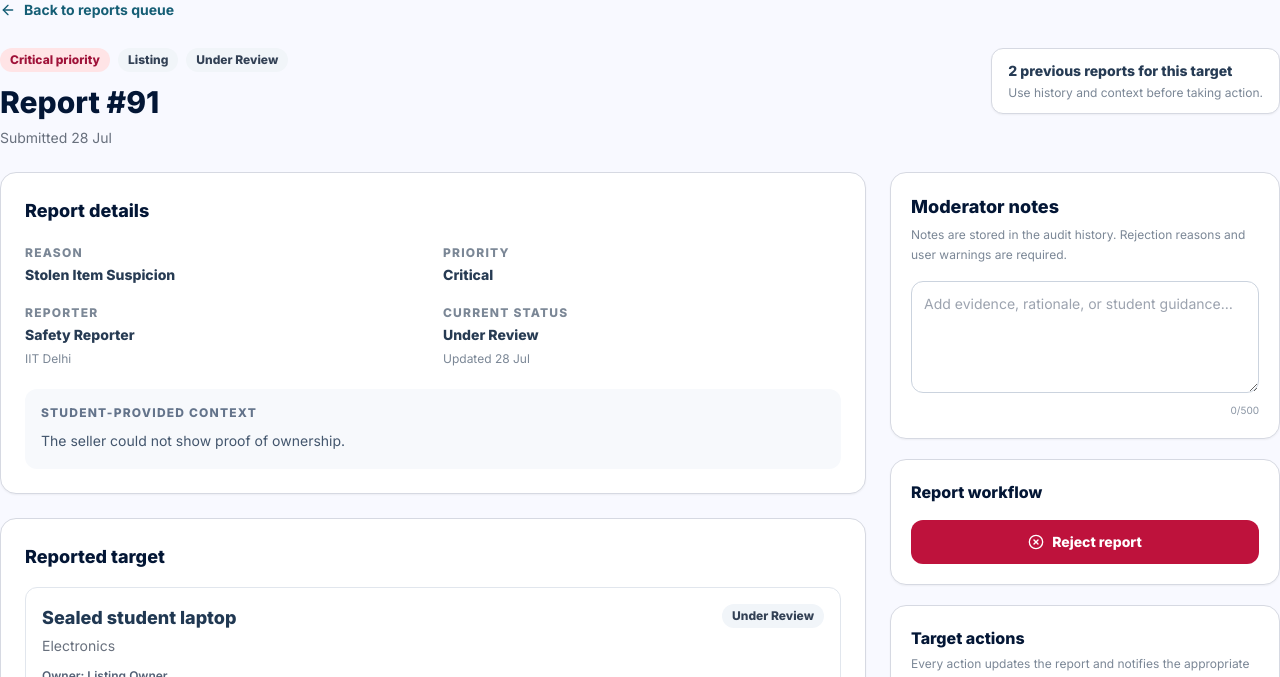
Test: AdminReportDetailsPage › shows report context and sends an audited target action
Check: the heading "Report #91" is shown, box x1=0 y1=84 x2=159 y2=120
Check: the text "Sealed student laptop" is shown, box x1=42 y1=604 x2=236 y2=632
Type "No valid ownership evidence was provided." into the text box with placeholder "Add evidence, rationale, or student guidance…" at {"x": 1085, "y": 337}, box x1=911 y1=281 x2=1259 y2=393
(page scrolled)
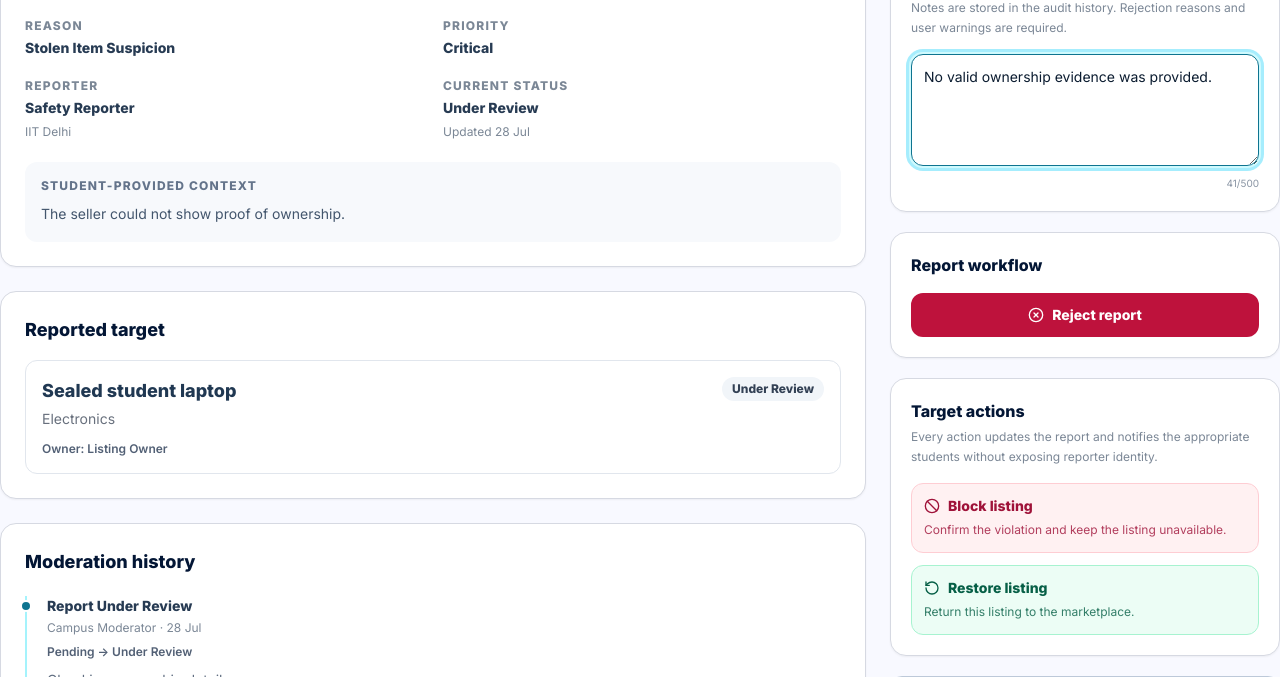
Click the button "Block listing" at {"x": 990, "y": 506}, box x1=911 y1=483 x2=1259 y2=553
(page scrolled)
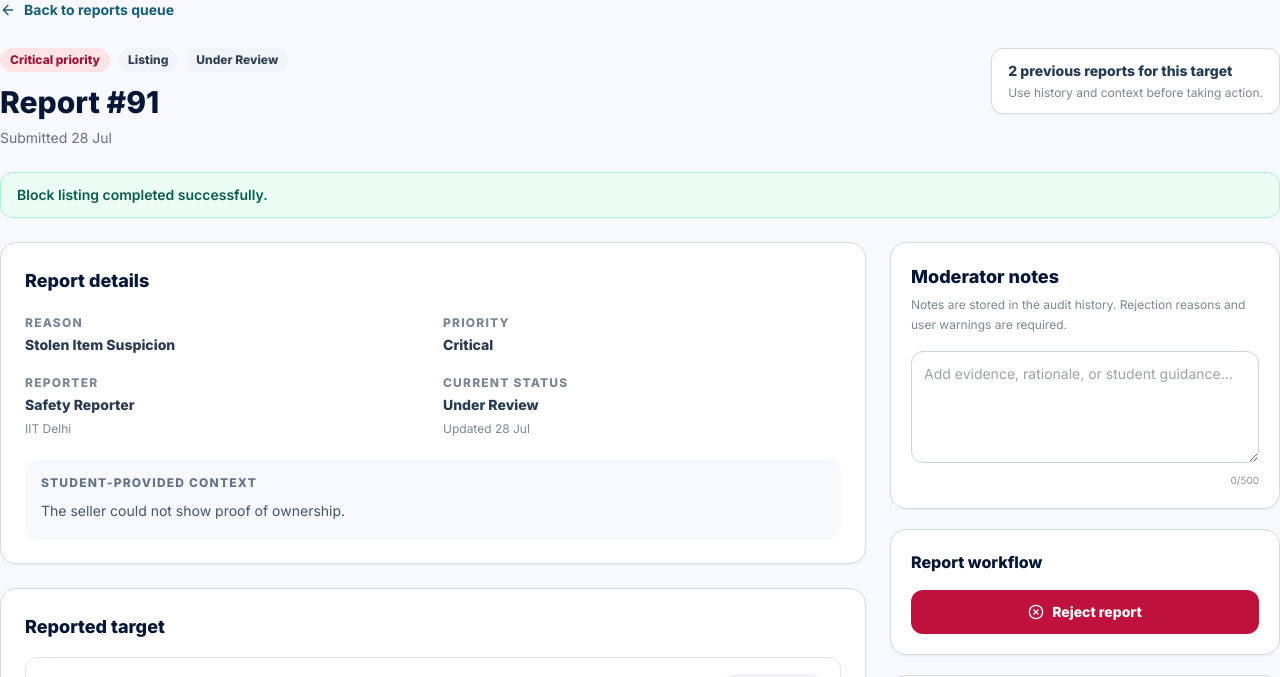
Check: the text "Block listing completed successfully." is shown, box x1=0 y1=172 x2=1279 y2=218
